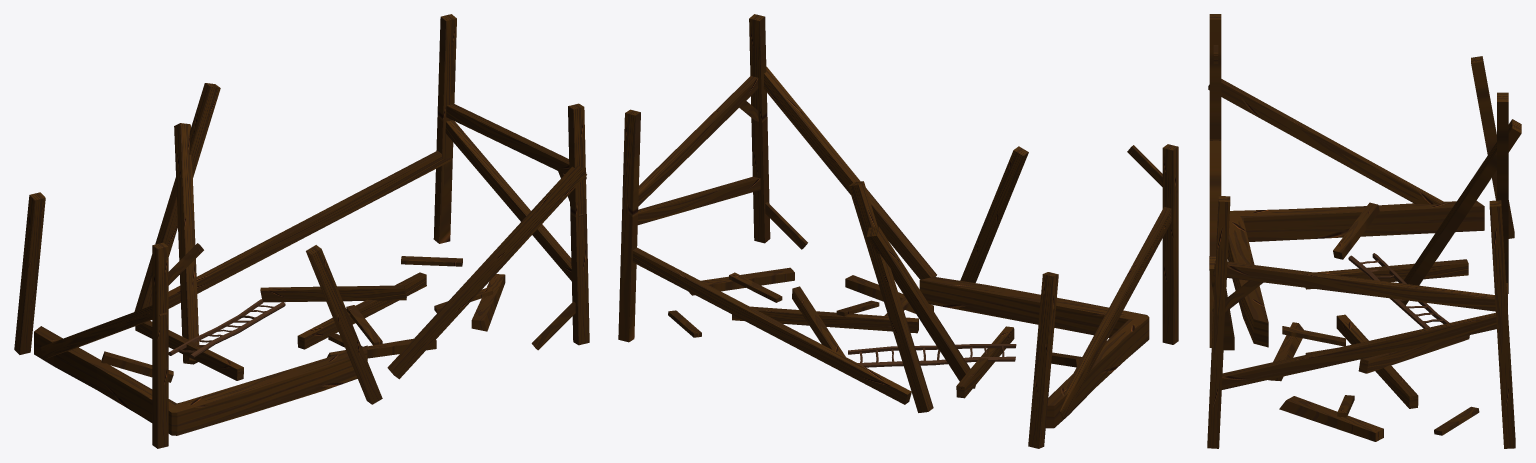
The model's file is BuildingZero.fbx.
3 renders of one model, left to right at view 1: azimuth 30°, elevation 25°; view 2: azimuth 150°, elevation 25°; view 3: azimuth 270°, elevation 25°, orthographic. The views are drawn at different scales.
Parts seen in each view (by area): view 1: BuildingZero; view 2: BuildingZero; view 3: BuildingZero.
Boxes of the visible parts, <box> form: BuildingZero: <box>14,14,589,448</box>; BuildingZero: <box>618,14,1178,448</box>; BuildingZero: <box>1207,14,1521,448</box>.
Size of the model in its own units: 7.53 by 4.13 by 4.46.
2 materials, 2 textured.
